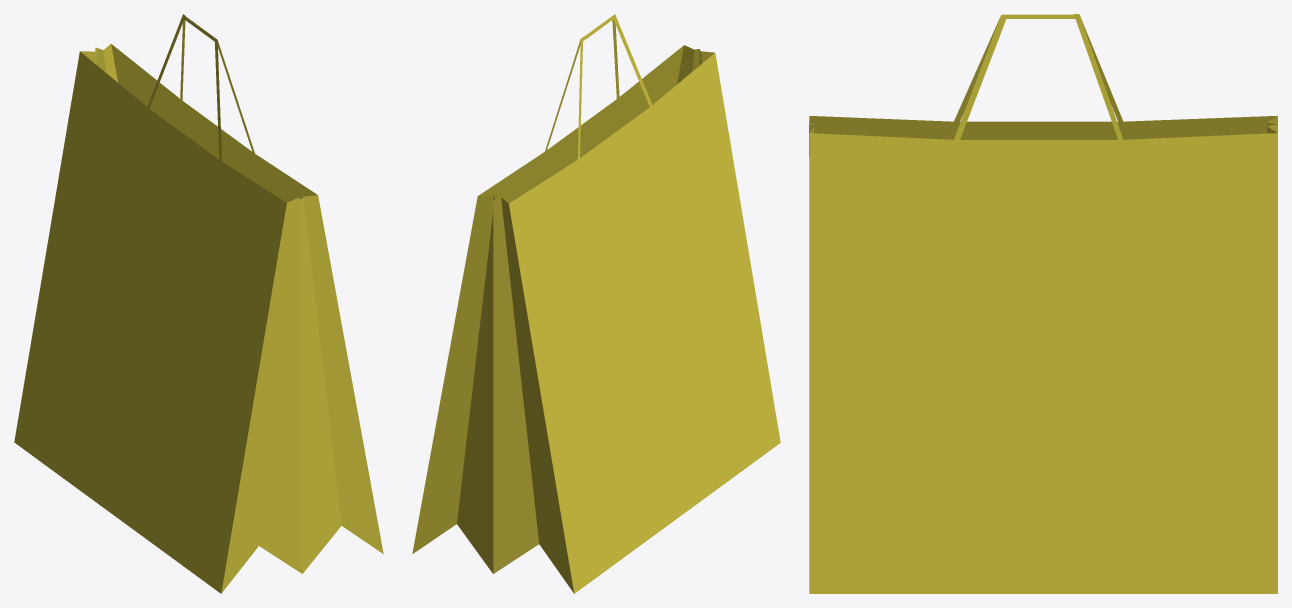
The model's file is obojena torba.fbx.
3 views of the same model, side by side, from view 1: azimuth 30°, elevation 25°; view 2: azimuth 150°, elevation 25°; view 3: azimuth 270°, elevation 25° (orthographic). The views are drawn at different scales.
Visible parts, largest first — view 1: Cube; view 2: Cube; view 3: Cube.
Part boxes in pixels (<box>): Cube: <box>14,14,383,593</box>; Cube: <box>412,14,780,593</box>; Cube: <box>809,14,1277,593</box>.
Size of the model in its own units: 90.62 by 252 by 200.
